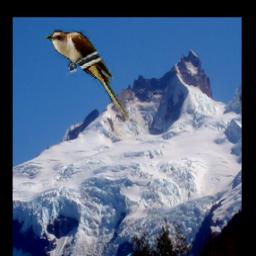Cuckoo: (45, 29, 129, 120)
